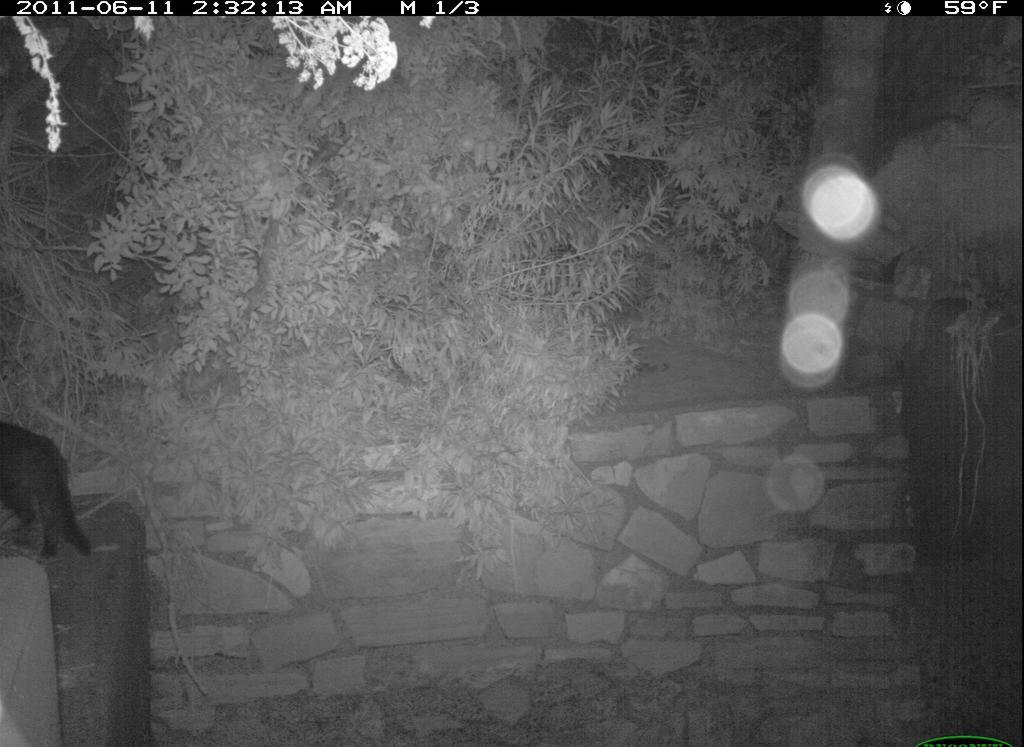cat: (1, 409, 109, 564)
